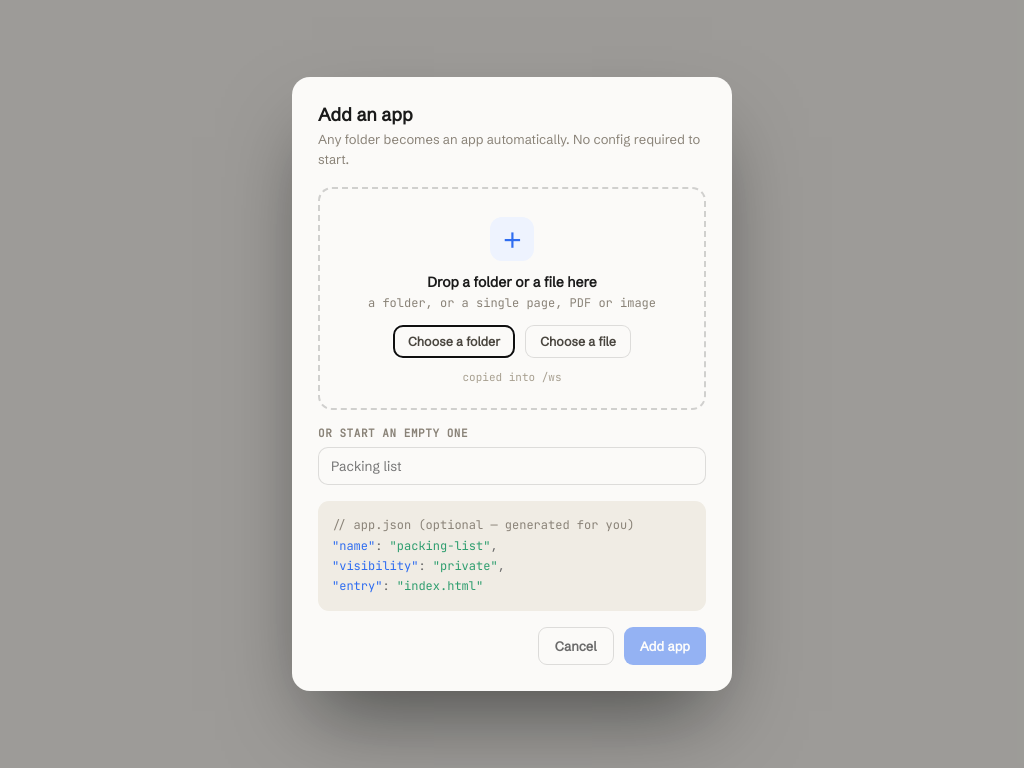
Test: NewAppModal › shows what the daemon said when a file cannot be brought in
Click the button "Choose a file" at coordinates (578, 342), box [525,325,631,358]
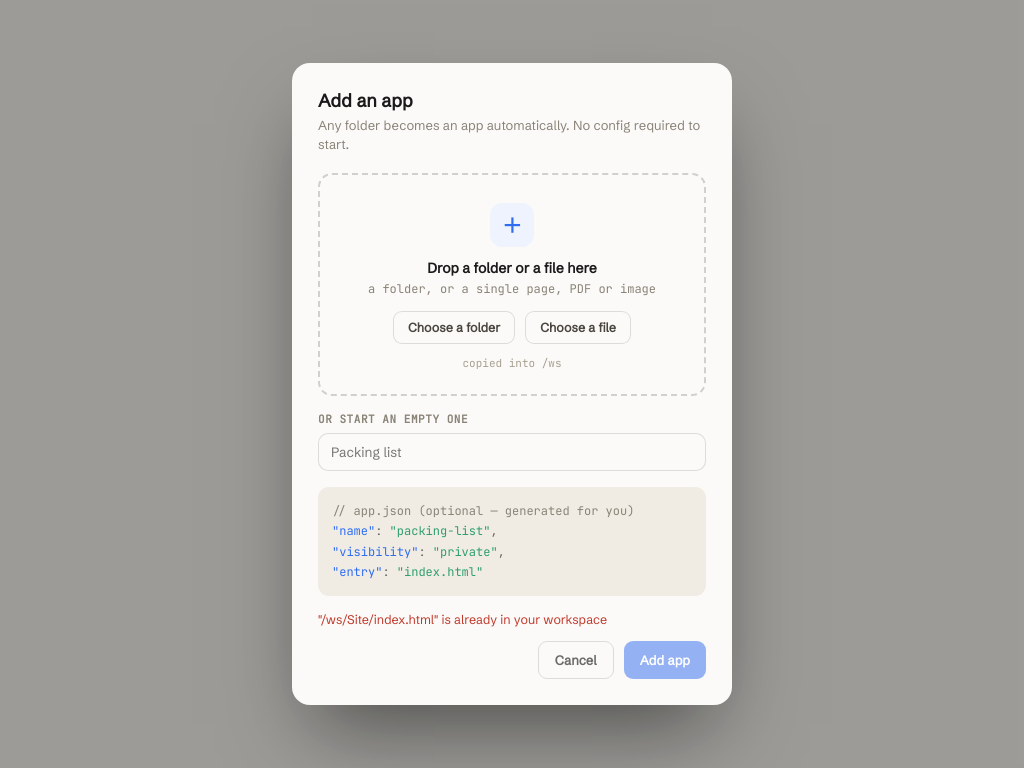
Now the text "\"/ws/Site/index.html\" is already in your workspace" is shown, box [318,612,607,627]
